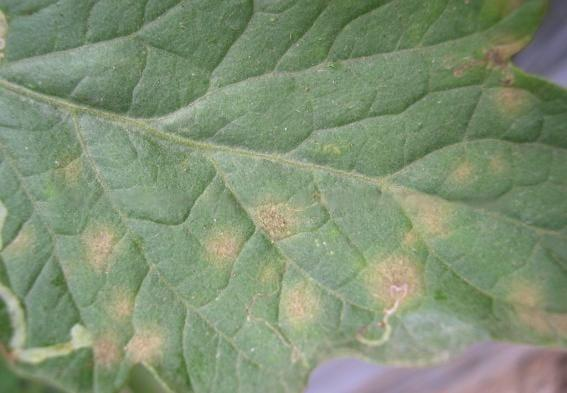Leaf Mold: (0, 0, 567, 393)
Leaf_Miner: (0, 278, 101, 393), (347, 277, 424, 355)
